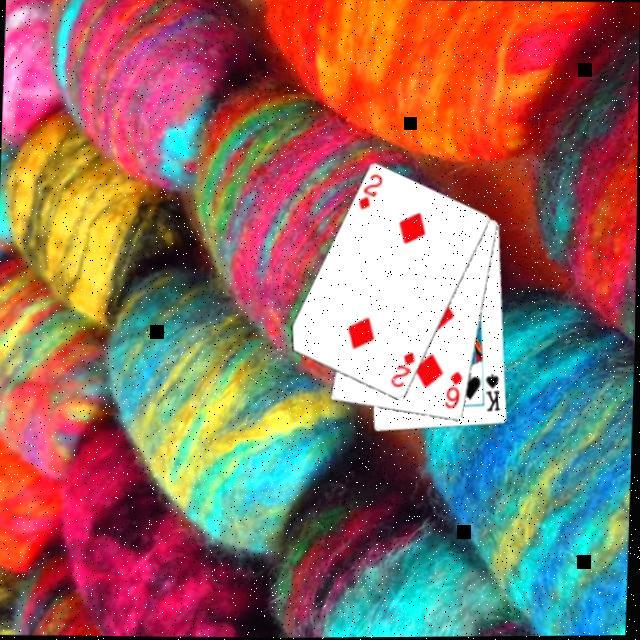2D: (354, 171, 386, 214), (387, 350, 417, 392)
6D: (441, 369, 465, 412)
KS: (483, 372, 505, 416)
